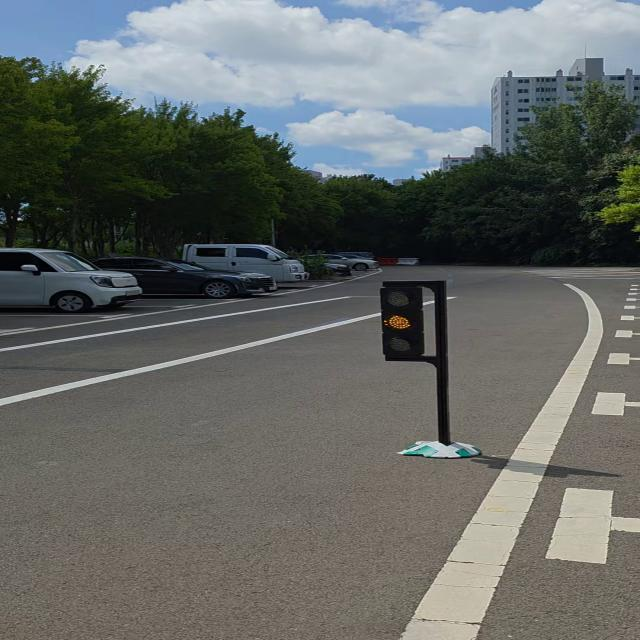yellow: (376, 279, 431, 363)
